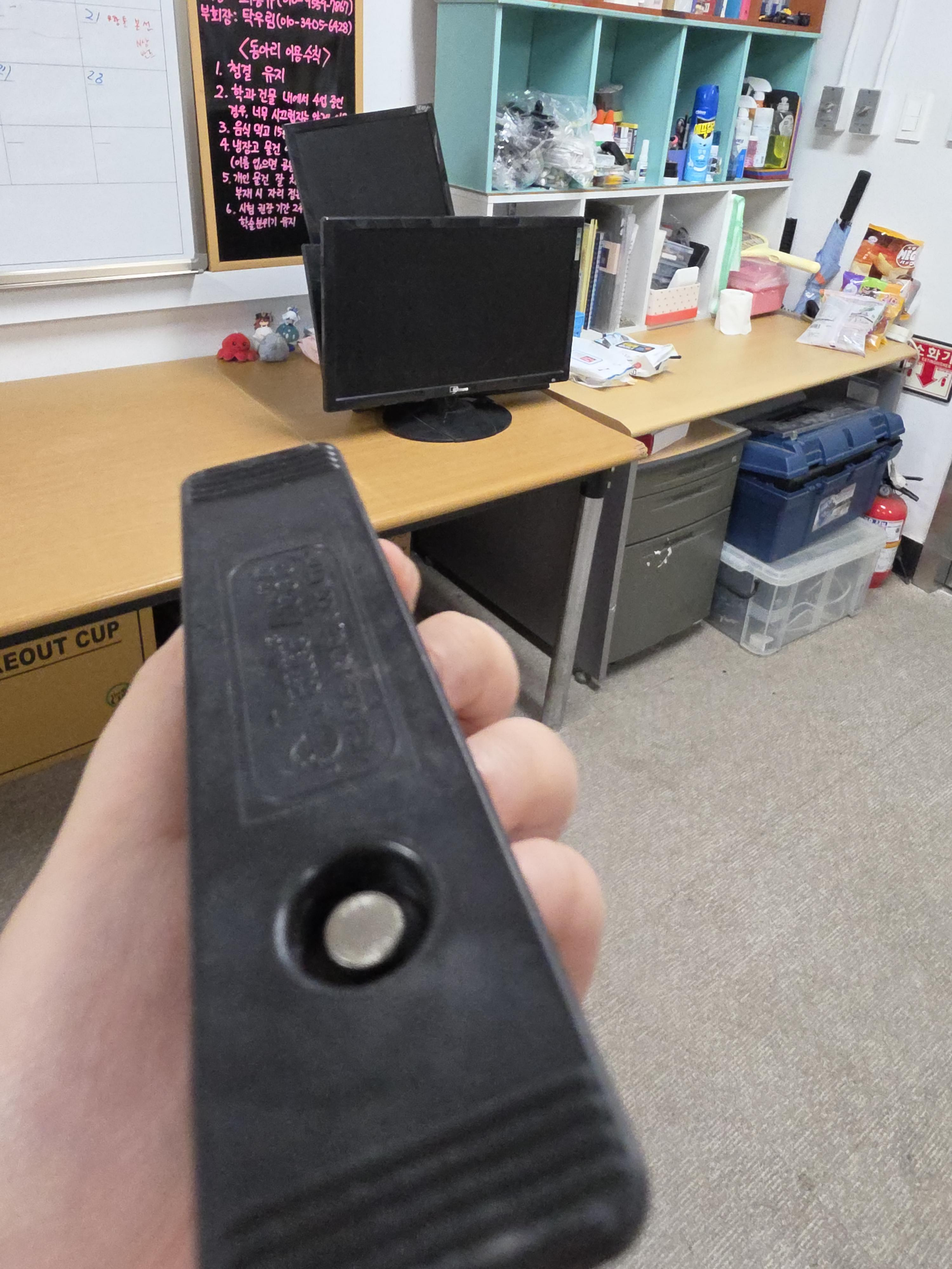stapler: (179, 442, 652, 1268)
tissue: (645, 266, 703, 328), (715, 288, 753, 337)
